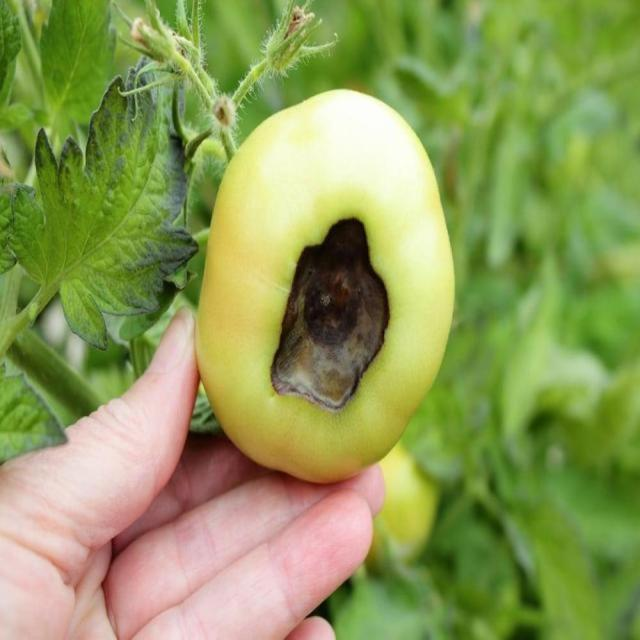Blossom End Rot Fruit: (177, 138, 262, 275)
